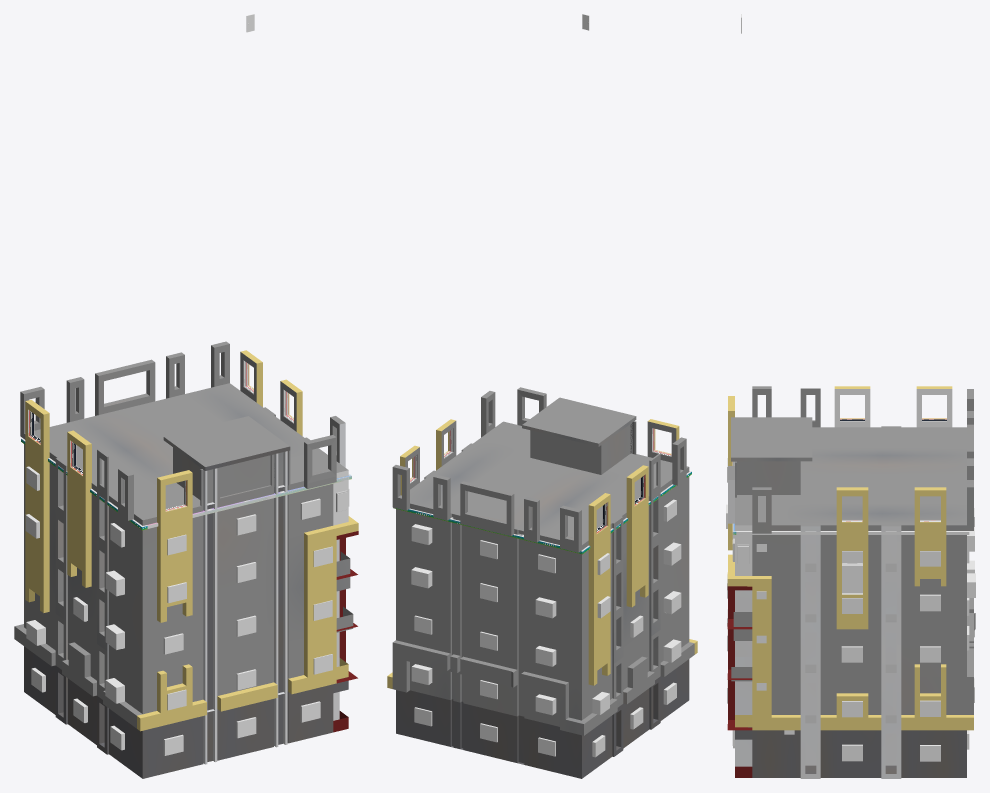
Rendered from building.gltf.
3 renders of one model, left to right at view 1: azimuth 30°, elevation 25°; view 2: azimuth 150°, elevation 25°; view 3: azimuth 270°, elevation 25°, orthographic. The views are drawn at different scales.
Visible parts, largest first — view 1: build, CTRL_Hole.015, build.004, build.001; view 2: build, CTRL_Hole.015; view 3: build, CTRL_Hole.015, build.001.
Boxes of the visible parts, bbox=[...] form: build: bbox=[14, 341, 358, 778]; CTRL_Hole.015: bbox=[25, 466, 349, 755]; build.004: bbox=[200, 450, 290, 764]; build.001: bbox=[333, 480, 357, 732]; build: bbox=[387, 387, 697, 778]; CTRL_Hole.015: bbox=[411, 499, 681, 757]; build: bbox=[727, 386, 975, 778]; CTRL_Hole.015: bbox=[726, 458, 975, 761]; build.001: bbox=[727, 535, 752, 777].
Bounding box in the file's own units: 29.89 × 93.82 × 29.63.
Materials: 13 (1 with a texture image).
